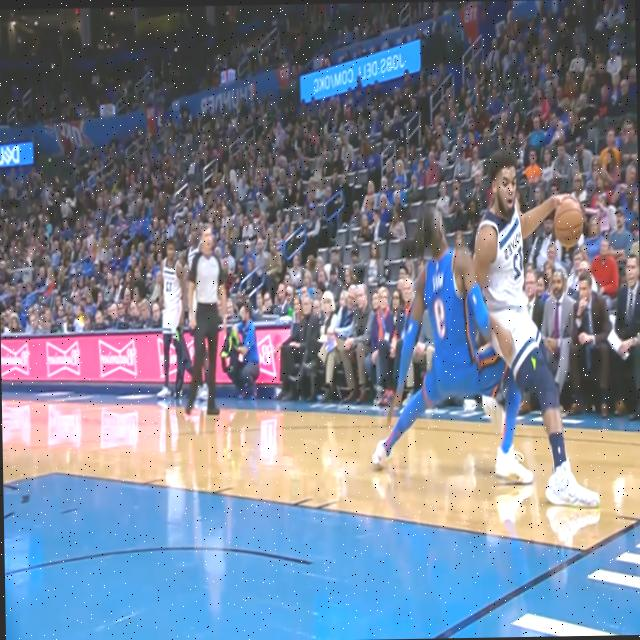Foul: (424, 193, 526, 434)
